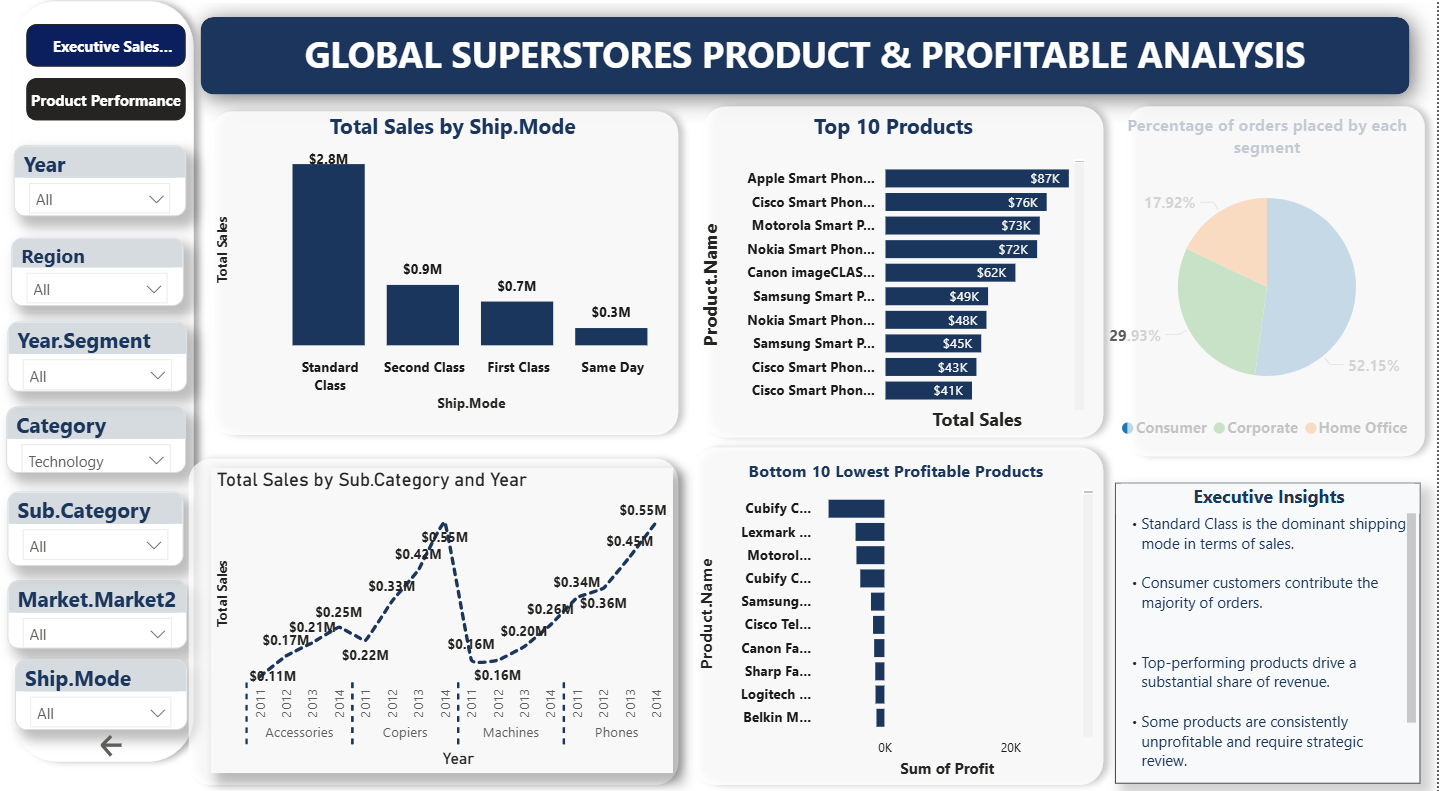

The dashboard page shown, as its layout file describes it:
{"tool":"powerbi","page":{"name":"Product Performance","canvas":[1280,720],"ordinal":1},"visuals":[{"type":"shape","box":[0,0,183.3,698.9],"z":0},{"type":"shape","box":[176.7,97.8,437.8,310],"z":0,"group":"g1"},{"type":"shape","box":[153.3,0,1126.7,118.9],"z":1000},{"type":"slicer","title":"Year","fields":{"Values":["global superstore1.Order.Date.Variation.Date Hierarchy.Year"]},"box":[12.2,138.9,153.3,63.3],"z":2000},{"type":"shape","box":[615.1,93.3,377.8,316.7],"z":3000},{"type":"slicer","title":"Region","fields":{"Values":["global superstore1.Region"]},"box":[10,221.1,153.3,61.1],"z":4000},{"type":"shape","box":[156.7,407.8,457.8,312.2],"z":5000,"group":"g3"},{"type":"slicer","title":"Market.Market2","fields":{"Values":["global superstore1.Market","global superstore1.Market2"]},"box":[6.7,526.7,160,61.1],"z":6000},{"type":"shape","box":[606.7,397.8,386.7,322.2],"z":7000,"group":"g2"},{"type":"slicer","title":"Category","fields":{"Values":["global superstore1.Category"]},"box":[5.6,372.2,160,58.9],"z":8000},{"type":"pieChart","title":"Percentage of orders placed by each segment","fields":{"Category":["global superstore1.Segment"],"Y":["global superstore1.Total Orders"]},"box":[977.8,110,302.2,300],"z":9000},{"type":"slicer","title":"Sub.Category","fields":{"Values":["global superstore1.Sub.Category"]},"box":[6.7,447.8,156.7,66.7],"z":10000},{"type":"slicer","title":"Year.Segment","fields":{"Values":["global superstore1.Order.Date.Variation.Date Hierarchy.Year","global superstore1.Segment"]},"box":[6.7,295.6,160,62.2],"z":11000},{"type":"barChart","title":"Top 10 Products","fields":{"Y":["global superstore1.Total Sales"],"Category":["global superstore1.Product.Name"]},"box":[620.7,108.9,348.9,288.9],"z":12000,"group":"g1"},{"type":"barChart","title":"Bottom 10 Lowest Profitable Products","fields":{"Category":["global superstore1.Product.Name"],"Y":["Sum(global superstore1.Profit)"]},"box":[617.8,418.9,360,288.9],"z":12000,"group":"g2"},{"type":"slicer","title":"Ship.Mode","fields":{"Values":["global superstore1.Ship.Mode"]},"box":[13.3,596.7,153.3,63.3],"z":13000},{"type":"textbox","title":"Executive Insights","box":[993.3,440,272.2,267.8],"z":14000},{"type":"shape","box":[993.3,93.3,286.7,333.3],"z":15000},{"type":"columnChart","fields":{"Category":["global superstore1.Ship.Mode"],"Y":["global superstore1.Total Sales"]},"box":[187.8,108.9,430,272.2],"z":15000,"group":"g1"},{"type":"lineChart","fields":{"Y":["global superstore1.Total Sales"],"Category":["global superstore1.Sub.Category","global superstore1.Order.Date.Variation.Date Hierarchy.Year"]},"box":[187.8,426.7,411.1,272.2],"z":16000,"group":"g3"},{"type":"actionButton","box":[85.6,660,71.1,27.8],"z":17000},{"type":"pageNavigator","box":[23.3,31.1,142.2,87.8],"z":18000},{"type":"group","id":"g1","title":"Group 1","box":[176.7,97.8,792.9,310],"z":19000},{"type":"group","id":"g2","title":"Group 2","box":[606.7,397.8,386.7,322.2],"z":19001,"group":"g3"},{"type":"group","id":"g3","title":"Group 3","box":[156.7,397.8,836.7,322.2],"z":19002}]}

Visuals, with their boxes in screenshot pixels (x1, y1, x2, y2), scaled from the page's 1280x720 canvas onto the 1442x791 screenshot:
shape: [0,0,206,768]
shape: [199,107,692,448]
shape: [173,0,1441,131]
"Year" slicer: [14,153,186,222]
shape: [693,103,1119,450]
"Region" slicer: [11,243,184,310]
shape: [177,448,692,790]
"Market.Market2" slicer: [8,579,188,646]
shape: [683,437,1119,790]
"Category" slicer: [6,409,187,474]
"Percentage of orders placed by each segment" pieChart: [1102,121,1441,450]
"Sub.Category" slicer: [8,492,184,565]
"Year.Segment" slicer: [8,325,188,393]
"Top 10 Products" barChart: [699,120,1092,437]
"Bottom 10 Lowest Profitable Products" barChart: [696,460,1102,778]
"Ship.Mode" slicer: [15,656,188,725]
"Executive Insights" textbox: [1119,483,1426,778]
shape: [1119,103,1441,469]
columnChart - global superstore1.Ship.Mode x global superstore1.Total Sales: [212,120,696,419]
lineChart - global superstore1.Total Sales x global superstore1.Sub.Category: [212,469,675,768]
actionButton: [96,725,177,756]
pageNavigator: [26,34,186,131]
"Group 1" group: [199,107,1092,448]
"Group 2" group: [683,437,1119,790]
"Group 3" group: [177,437,1119,790]
